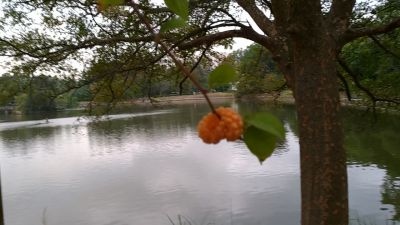eggs: (198, 105, 244, 145)
